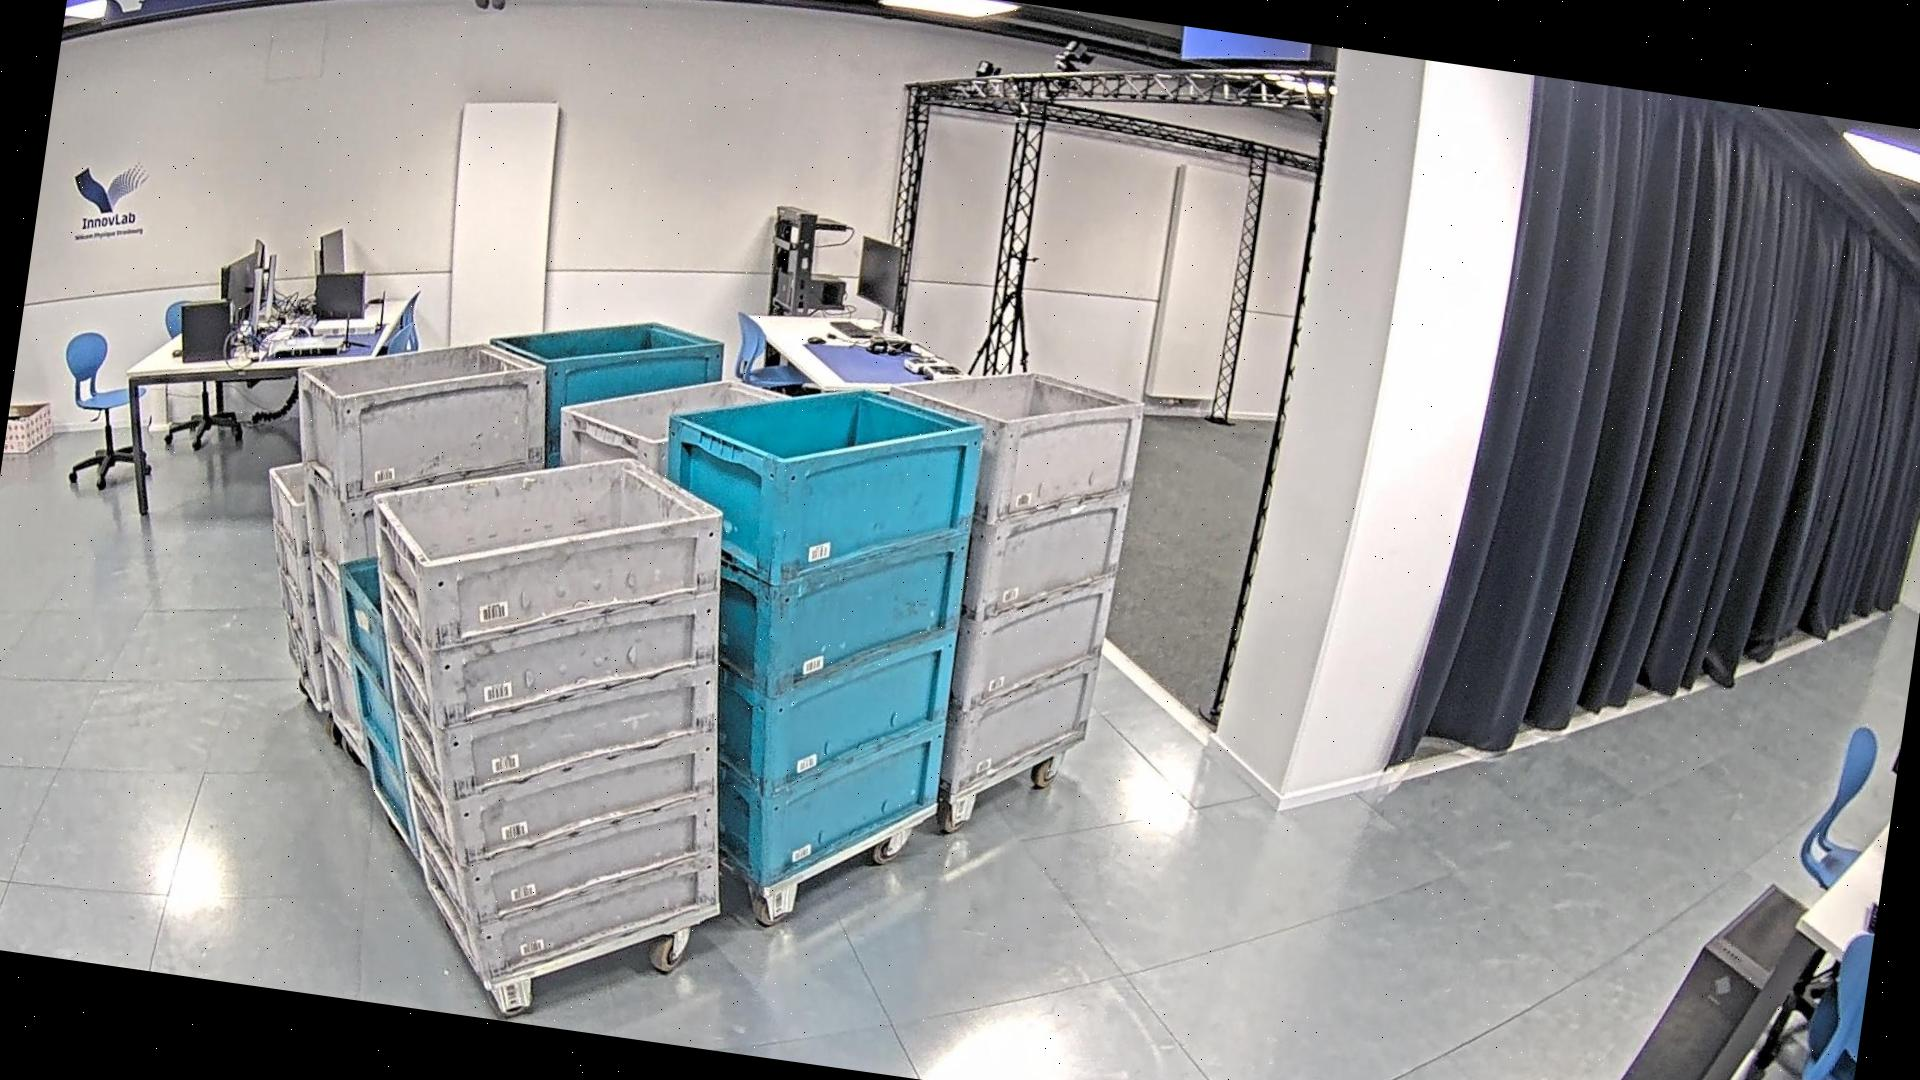Box3G: (302, 415, 785, 1023), (505, 349, 890, 822)
Box4G: (243, 316, 585, 803), (833, 347, 1147, 815)
Box8G: (233, 430, 484, 740)
BoxB4: (607, 353, 1000, 919), (442, 298, 757, 703)
BoxB8: (297, 522, 692, 907)
